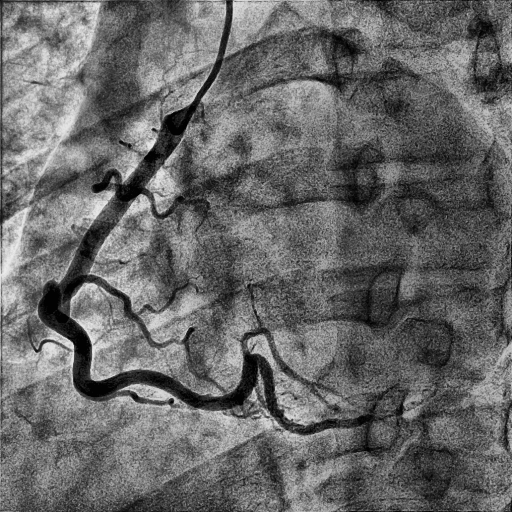pborca: (241, 328, 338, 411)
pda: (252, 353, 439, 435)
rca: (37, 109, 258, 412)
